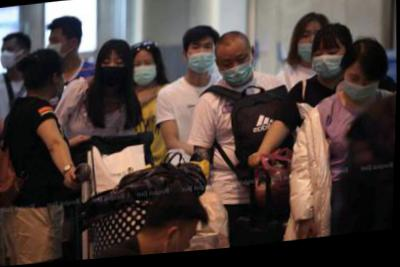OK: (312, 47, 347, 87), (220, 54, 253, 92), (345, 75, 381, 109), (98, 56, 129, 91), (186, 43, 216, 78), (132, 59, 158, 90), (46, 33, 68, 64), (1, 44, 21, 69)
WRONG: (297, 31, 330, 69)
